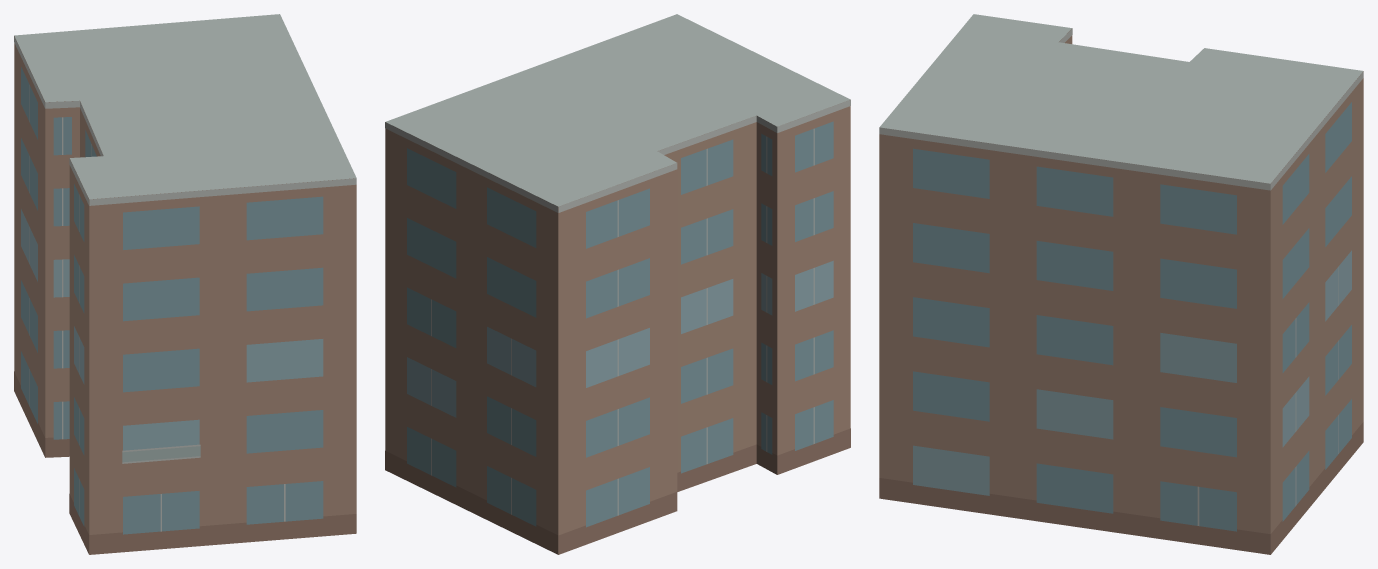
File: survey-upis-32868958.glb
3 renders of one model, left to right at view 1: azimuth 30°, elevation 25°; view 2: azimuth 150°, elevation 25°; view 3: azimuth 270°, elevation 25°, orthographic. The views are drawn at different scales.
Visible parts, largest first — view 1: survey-upis-32868958.tmp; view 2: survey-upis-32868958.tmp; view 3: survey-upis-32868958.tmp.
Boxes of the visible parts, box(x1,y1,x2,y2) form: survey-upis-32868958.tmp: box(14, 14, 356, 554); survey-upis-32868958.tmp: box(385, 14, 850, 554); survey-upis-32868958.tmp: box(879, 14, 1363, 554).
Size of the model in its own units: 13 by 13.25 by 15.68.
